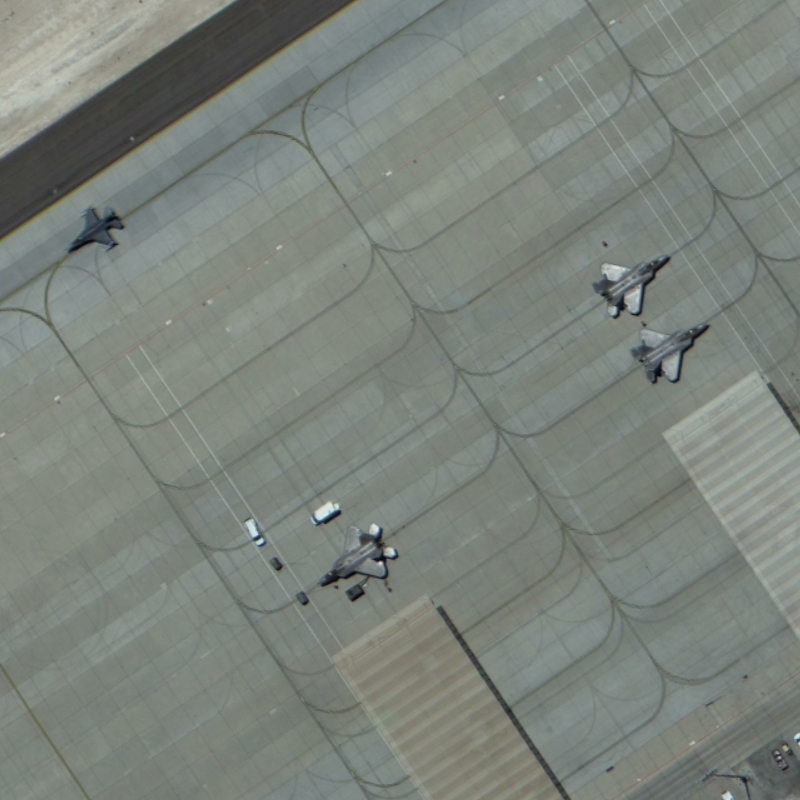A15: (586, 245, 678, 327), (627, 317, 715, 393), (315, 519, 402, 589)
A5: (61, 198, 128, 261)
